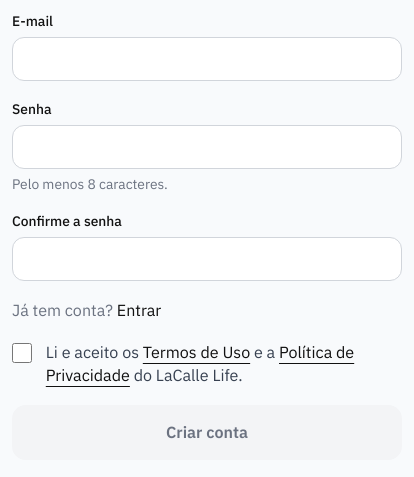
Test: SignupForm › avisa que a conta já existe em vez de prometer um e-mail que nunca vai chegar
The width and height of the screenshot is (414, 477).
In the field labelled "E-mail": (207, 59) [12, 37, 402, 81], type "pedro@example.com"
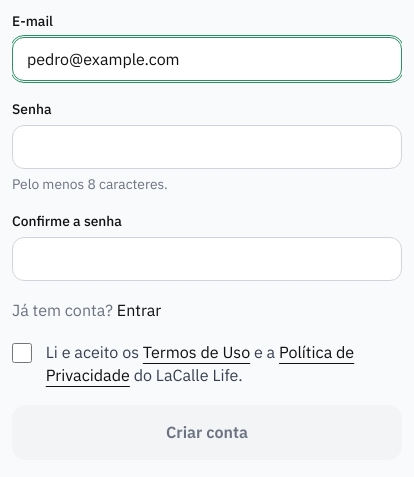
In the password field labelled "Senha": (207, 147) [12, 125, 402, 169], type "senha-forte-1"
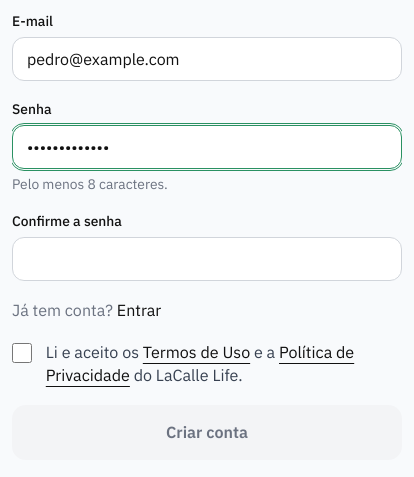
In the password field labelled "Confirme a senha": (207, 259) [12, 237, 402, 281], type "senha-forte-1"
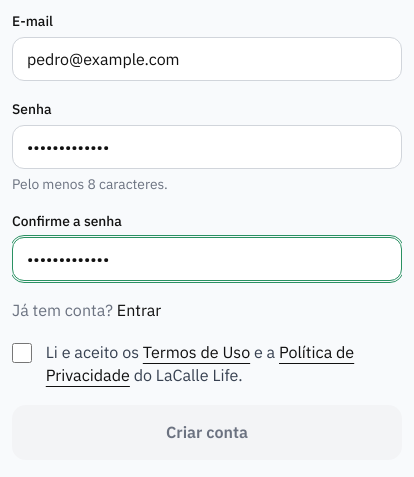
Click the checkbox labelled "Li e aceito": click(22, 353) [12, 343, 32, 363]
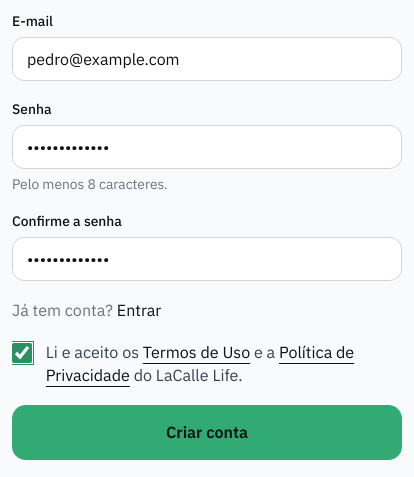
Click the button "Criar conta": click(207, 433) [12, 405, 402, 460]
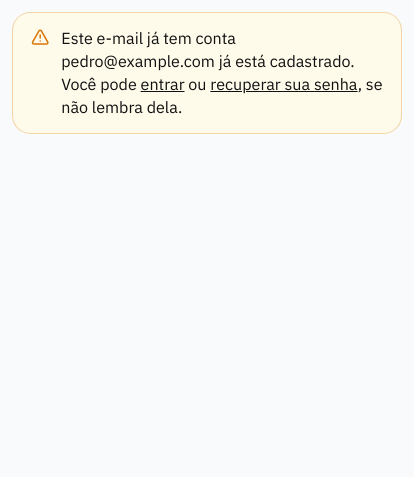
Result: the text "Este e-mail já tem conta" is shown at [61, 27, 236, 48]
